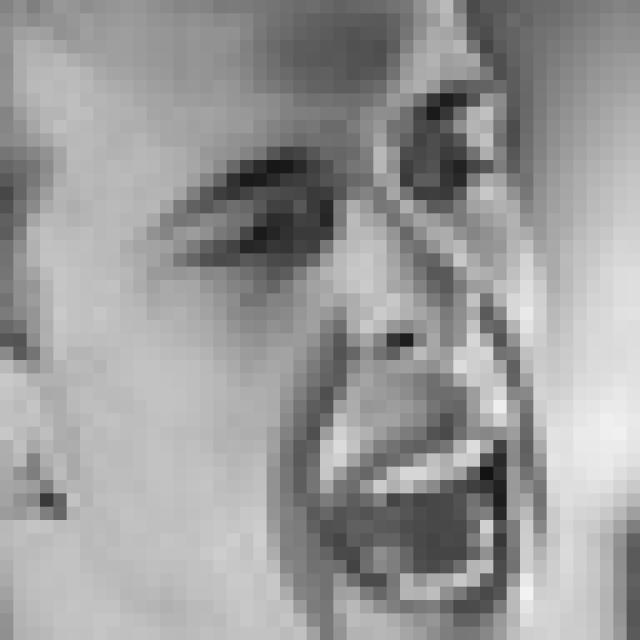angry: (133, 64, 552, 640)
